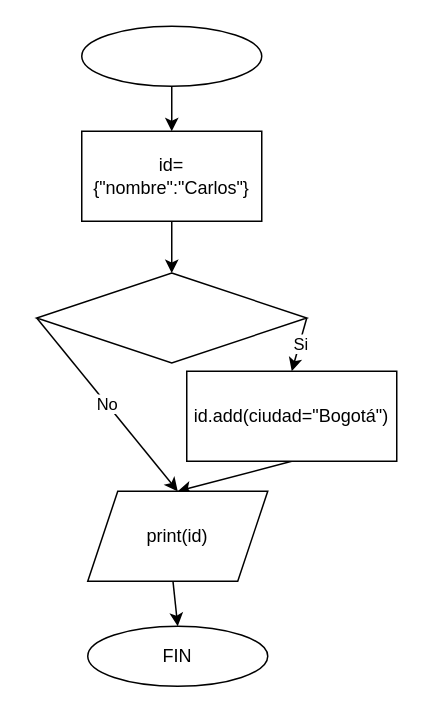
This 423x713 diagram has some shape labels left out. The centre of each missing label's shape, as x and y in pixels:
if id.get("ciudad")==False:: (171,317)
INICIO: (171,55)
